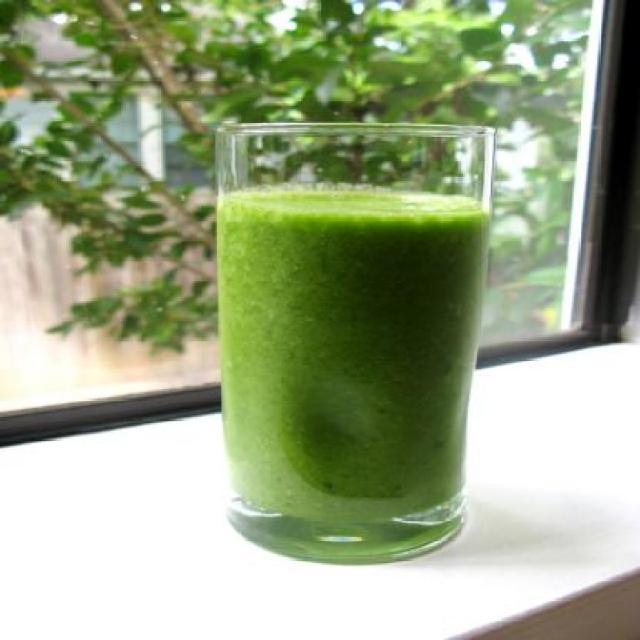Juice: (213, 180, 490, 522)
